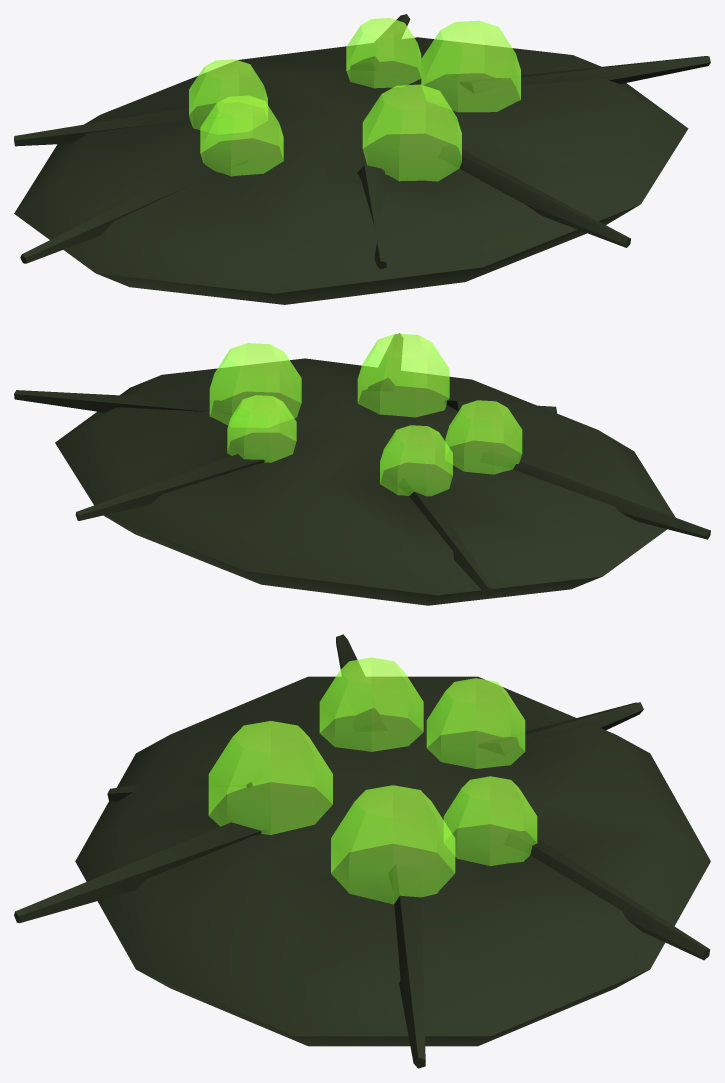
File: fenlight_spill.glb
The picture shows the model from 3 angles, top to bottom: view 1: azimuth 30°, elevation 25°; view 2: azimuth 150°, elevation 25°; view 3: azimuth 270°, elevation 25°; orthographic projection. The views are drawn at different scales.
Visible parts, largest first — view 1: FenlightSpill; view 2: FenlightSpill; view 3: FenlightSpill.
Part boxes in pixels (x1,y1,x2,y2): FenlightSpill: (14,14,710,304); FenlightSpill: (14,333,710,605); FenlightSpill: (14,634,710,1068).
Size of the model in its own units: 1.8 by 0.4187 by 1.25.
